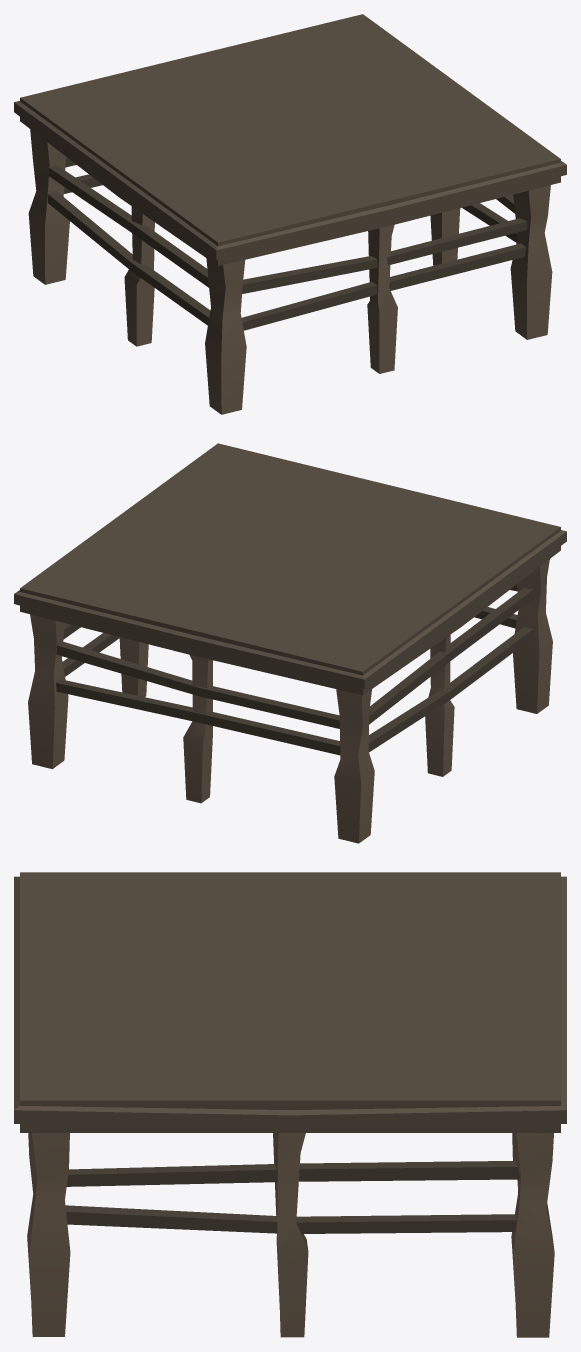
File: SM_Bld_Shanty_Base_Stilts_01.glb
The picture shows the model from 3 angles, top to bottom: view 1: azimuth 30°, elevation 25°; view 2: azimuth 150°, elevation 25°; view 3: azimuth 270°, elevation 25°; orthographic projection. The views are drawn at different scales.
Parts seen in each view (by area): view 1: SM_Bld_Shanty_Base_Stilts_01; view 2: SM_Bld_Shanty_Base_Stilts_01; view 3: SM_Bld_Shanty_Base_Stilts_01.
Boxes of the visible parts, box(x1,y1,x2,y2) form: SM_Bld_Shanty_Base_Stilts_01: box(14, 14, 566, 414); SM_Bld_Shanty_Base_Stilts_01: box(14, 443, 566, 843); SM_Bld_Shanty_Base_Stilts_01: box(14, 872, 566, 1337).
Size of the model in its own units: 0.0511 by 0.0247 by 0.0511.
